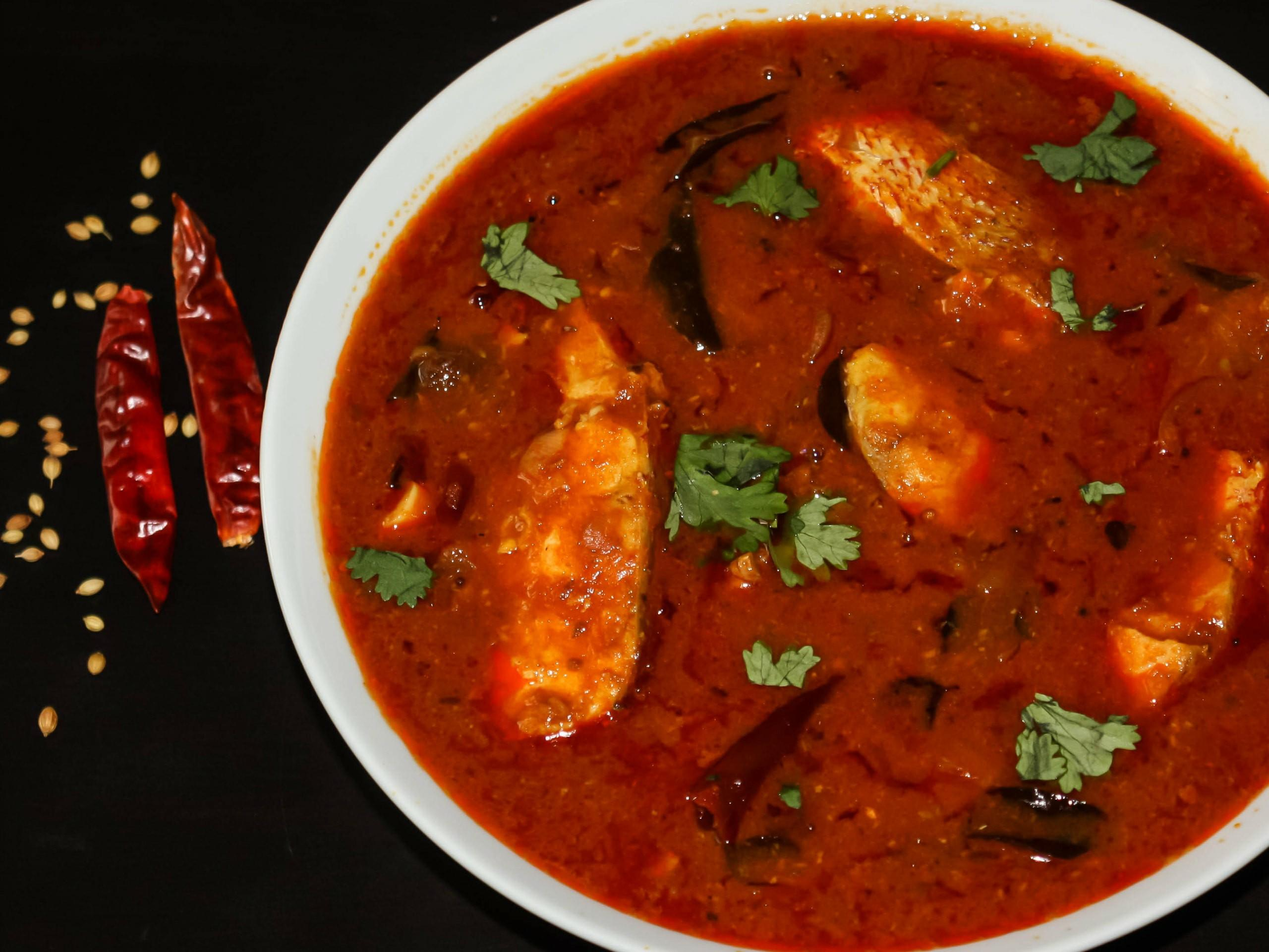FishCurry: (319, 17, 1269, 952)
